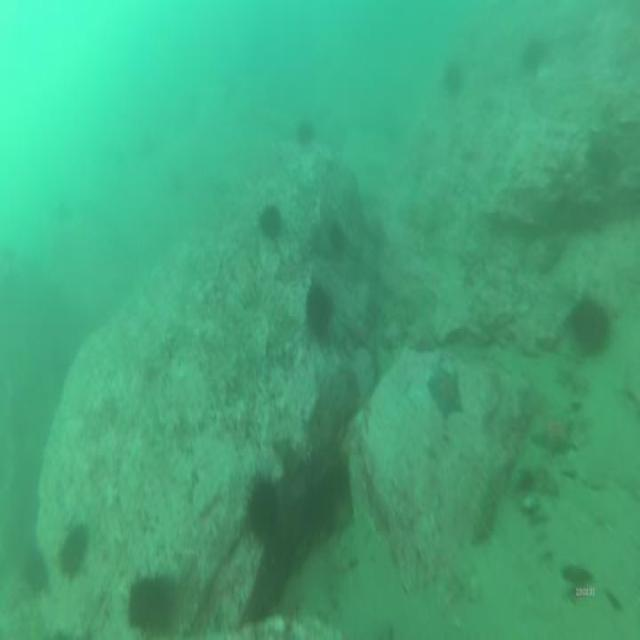echinus: (128, 580, 170, 630), (248, 482, 278, 536), (306, 284, 331, 335), (59, 529, 87, 572), (259, 204, 280, 235), (523, 42, 545, 70), (446, 62, 462, 93), (298, 123, 314, 144)
holothurian: (473, 468, 501, 552)
starfish: (572, 296, 609, 352), (530, 408, 572, 455), (429, 368, 463, 412), (347, 319, 369, 348)
